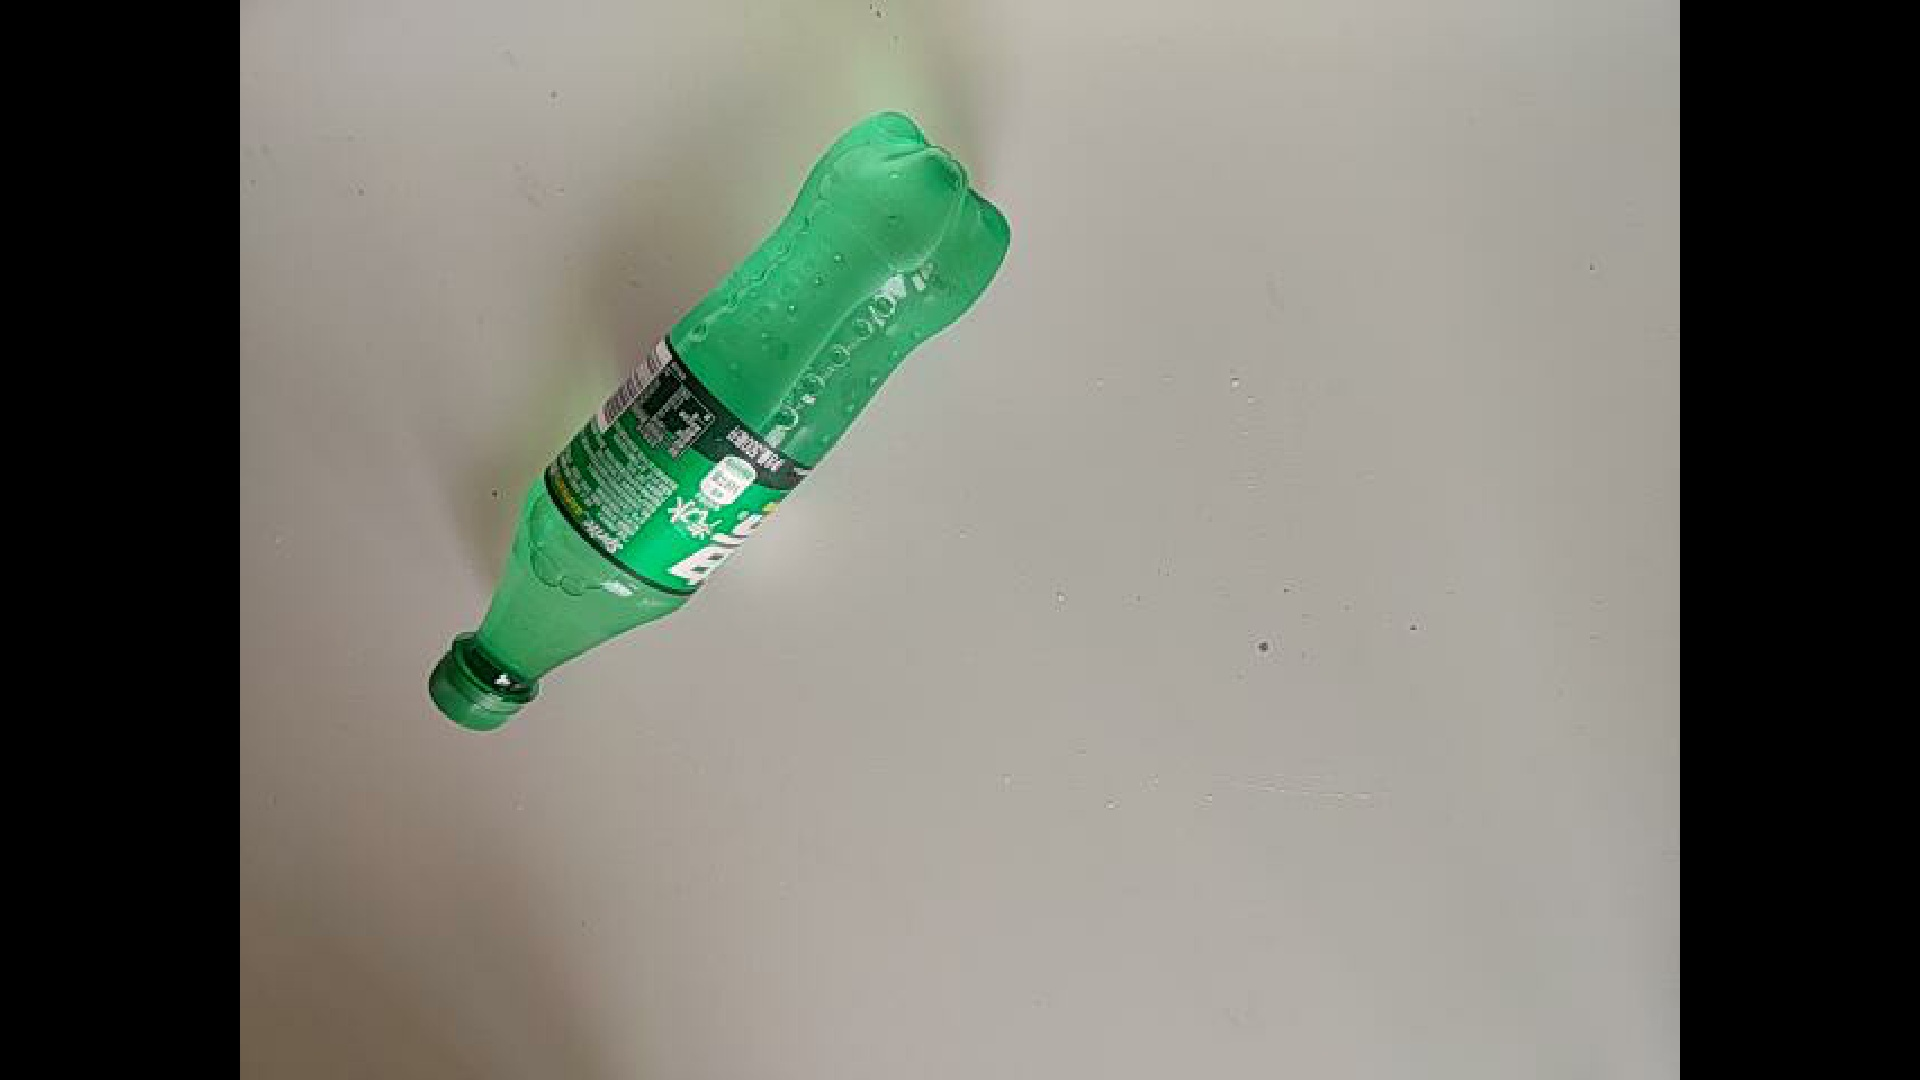sprite: (369, 334, 1162, 791)
